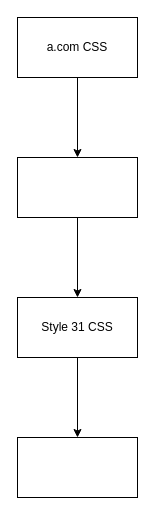
Image size: 155x515. Some labels were removed from this diagram. The centre of each missing label's shape, as x and y in pixels:
General Teams CSS: the point at 77,187
Page Override CSS: the point at 77,467
